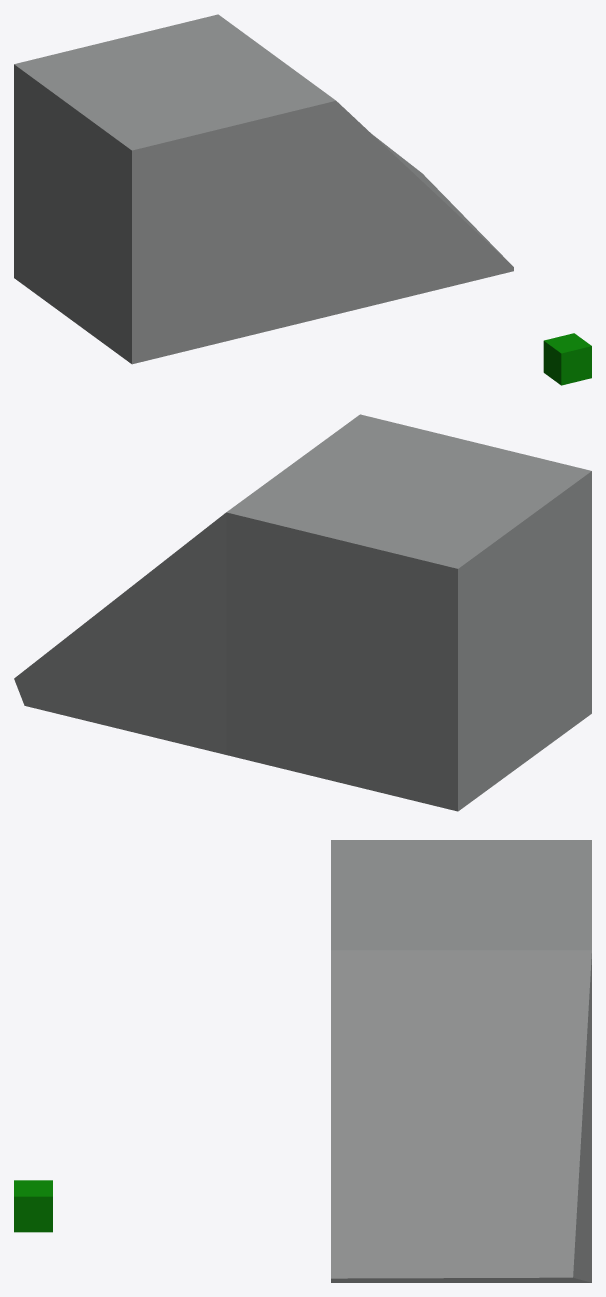
The model's file is test-world1.glb.
The picture shows the model from 3 angles, top to bottom: view 1: azimuth 30°, elevation 25°; view 2: azimuth 150°, elevation 25°; view 3: azimuth 270°, elevation 25°; orthographic projection. The views are drawn at different scales.
Visible parts, largest first — view 1: mesh.001, event.001; view 2: mesh.001; view 3: mesh.001, event.001.
Boxes of the visible parts, x1=… form: mesh.001: x1=14, y1=14, x2=513, y2=364; event.001: x1=543, y1=333, x2=591, y2=385; mesh.001: x1=14, y1=414, x2=591, y2=811; mesh.001: x1=331, y1=840, x2=591, y2=1282; event.001: x1=14, y1=1180, x2=52, y2=1232.
Size of what is drawn, in the model's own units: 7.83 by 4 by 8.86.
